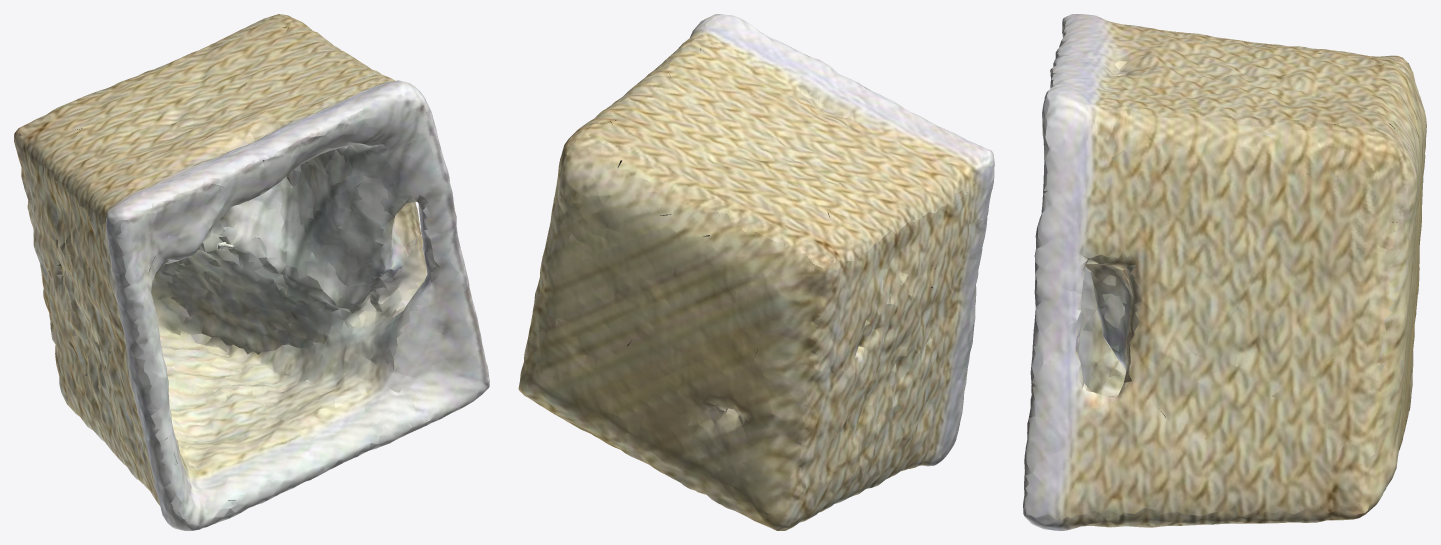
The model's file is spar3d.glb.
3 renders of one model, left to right at view 1: azimuth 30°, elevation 25°; view 2: azimuth 150°, elevation 25°; view 3: azimuth 270°, elevation 25°, orthographic. The views are drawn at different scales.
Visible parts, largest first — view 1: world; view 2: world; view 3: world.
Boxes of the visible parts, bbox=[...] form: world: bbox=[14, 14, 489, 530]; world: bbox=[518, 14, 994, 530]; world: bbox=[1023, 14, 1426, 530].
Size of the model in its own units: 0.7627 by 0.7921 by 0.6051.
1 material, 1 textured.
